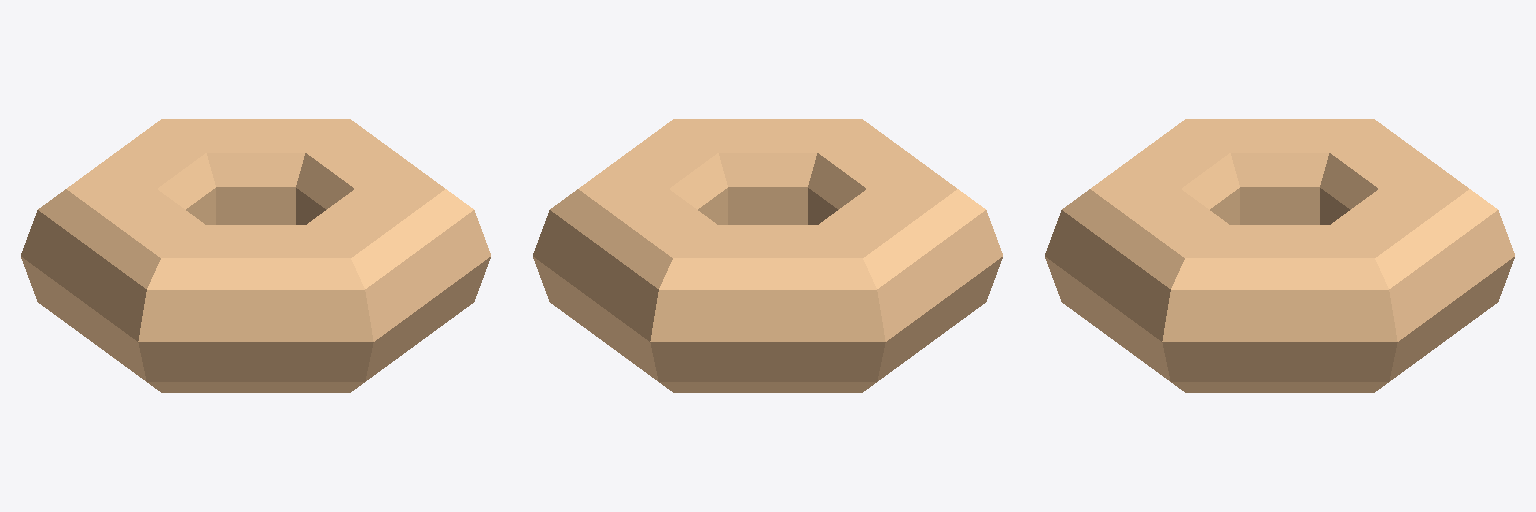
The model's file is donut.obj.
3 renders of one model, left to right at view 1: azimuth 30°, elevation 25°; view 2: azimuth 150°, elevation 25°; view 3: azimuth 270°, elevation 25°, orthographic.
Visible parts, largest first — view 1: donut; view 2: donut; view 3: donut.
Boxes of the visible parts, x1=… form: donut: x1=21, y1=119, x2=490, y2=392; donut: x1=533, y1=119, x2=1002, y2=392; donut: x1=1045, y1=119, x2=1514, y2=392.
Bounding box in the file's own units: 0.2451 × 0.0889 × 0.283.